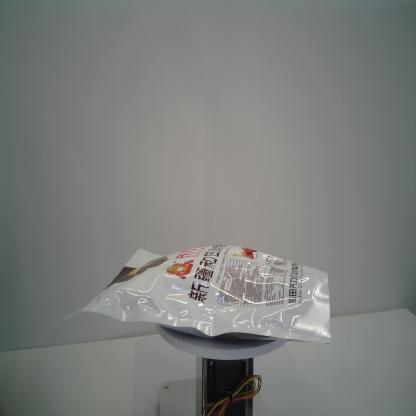Dried Food: (63, 241, 332, 351)
